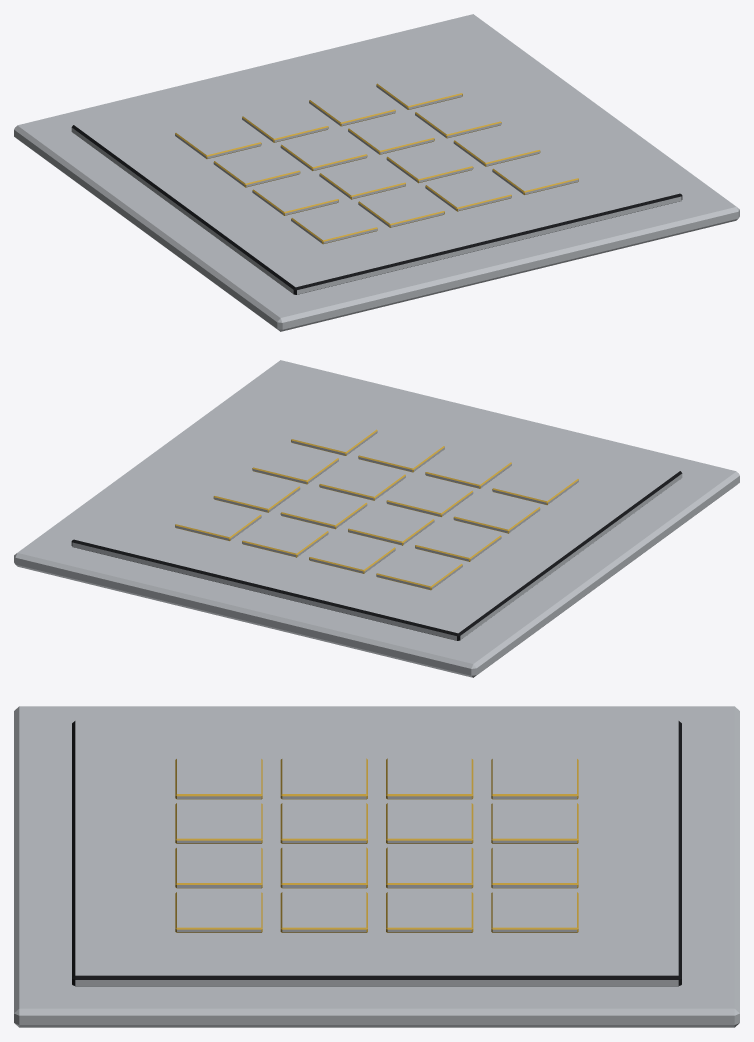
File: com_syrlinks_ewc30.glb
The picture shows the model from 3 angles, top to bottom: view 1: azimuth 30°, elevation 25°; view 2: azimuth 150°, elevation 25°; view 3: azimuth 270°, elevation 25°; orthographic projection. The views are drawn at different scales.
Visible parts, largest first — view 1: external_patch_antenna; view 2: external_patch_antenna; view 3: external_patch_antenna.
Part boxes in pixels (x1,y1,x2,y2): external_patch_antenna: (14, 14, 739, 331); external_patch_antenna: (14, 360, 739, 677); external_patch_antenna: (14, 706, 739, 1027).
Size of the model in its own units: 0.14 by 0.0071 by 0.14.
